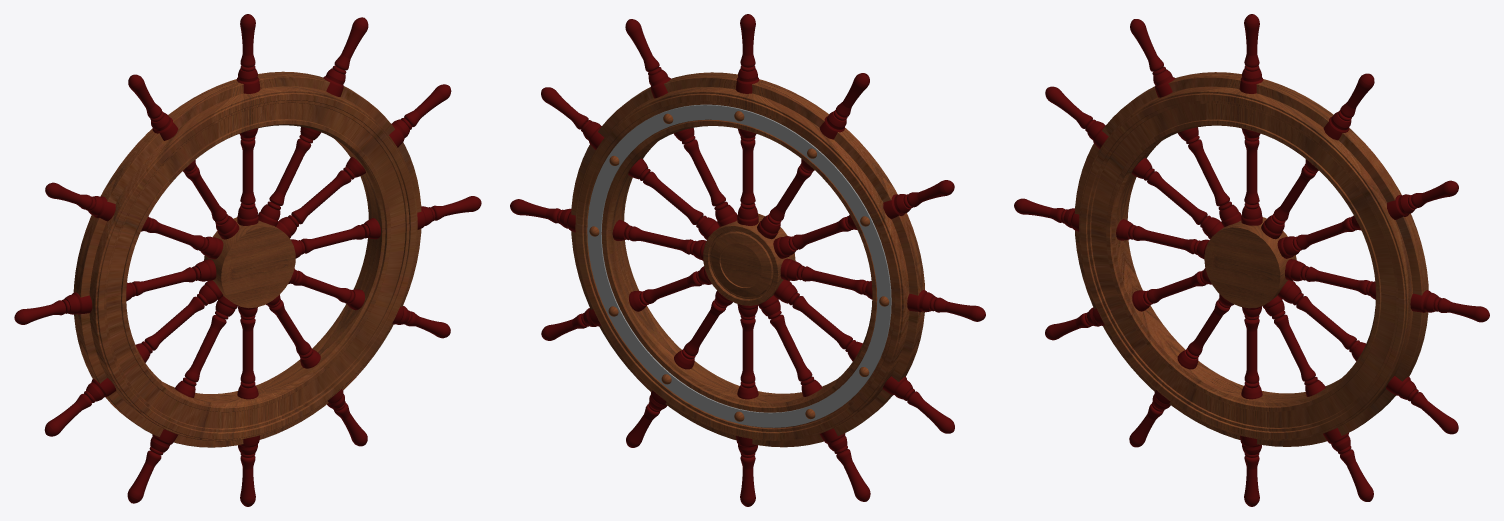
File: Штурвал_Руль.FBX
3 views of the same model, side by side, from view 1: azimuth 30°, elevation 25°; view 2: azimuth 150°, elevation 25°; view 3: azimuth 330°, elevation 25° (orthographic).
Visible parts, largest first — view 1: Cylinder001; view 2: Cylinder001; view 3: Cylinder001.
Part boxes in pixels (box(x1,y1,x2,y2)): Cylinder001: box(14, 14, 481, 506); Cylinder001: box(510, 14, 985, 506); Cylinder001: box(1014, 14, 1489, 506).
Size of the model in its own units: 50.23 by 50.24 by 4.48.
